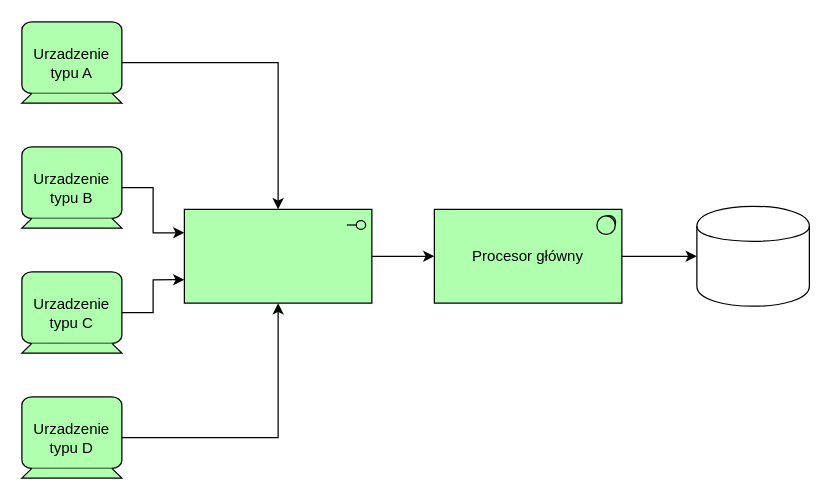
This 831x500 diagram has some shape labels left out. The shapes that lost their labels are listed below. From the top down, each one's centre as x and y in pixels, then its label:
the point at 277,255: Komponent brzegowy
the point at 752,255: Jednostka pamięci zbiorów
